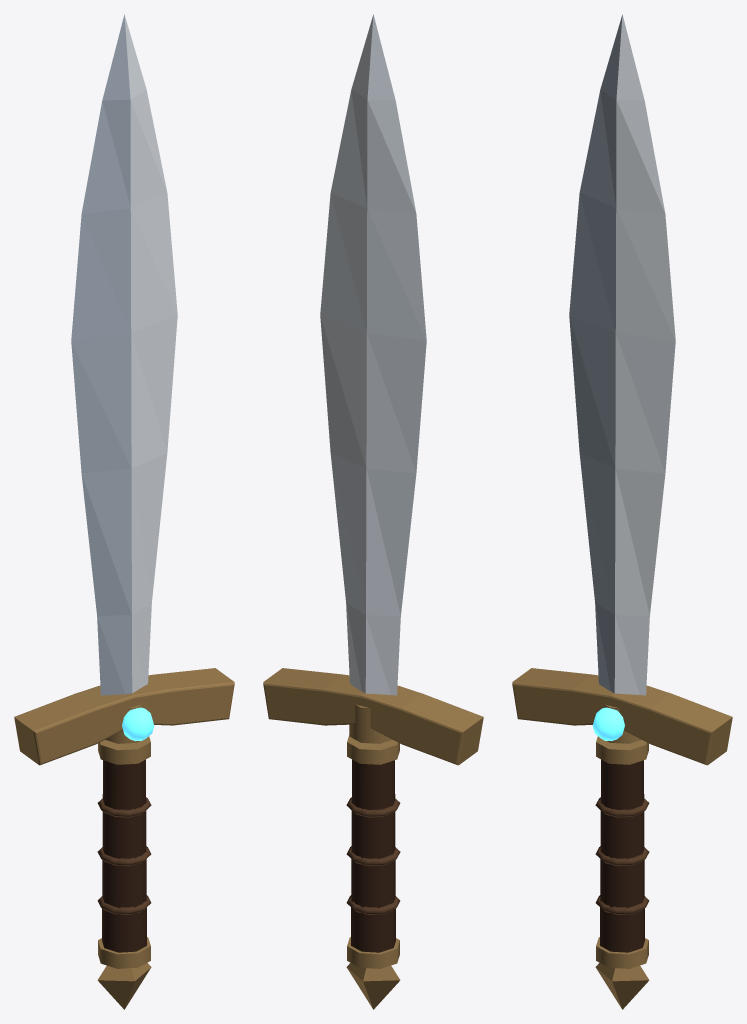
The model's file is sword_f2_97f3b9a2.glb.
3 renders of one model, left to right at view 1: azimuth 30°, elevation 25°; view 2: azimuth 150°, elevation 25°; view 3: azimuth 330°, elevation 25°, orthographic.
Parts seen in each view (by area): view 1: m0_ow80_, m3_ow80_, m1_ow80_, m4_ow80_, m2_gm160_; view 2: m0_ow80_, m3_ow80_, m1_ow80_, m4_ow80_; view 3: m0_ow80_, m3_ow80_, m1_ow80_, m4_ow80_, m2_gm160_.
Boxes of the visible parts, x1=… form: m0_ow80_: x1=71, y1=14, x2=177, y2=695; m3_ow80_: x1=14, y1=668, x2=234, y2=1009; m1_ow80_: x1=102, y1=759, x2=146, y2=952; m4_ow80_: x1=97, y1=797, x2=151, y2=914; m2_gm160_: x1=122, y1=707, x2=154, y2=741; m0_ow80_: x1=320, y1=14, x2=426, y2=695; m3_ow80_: x1=263, y1=668, x2=483, y2=1009; m1_ow80_: x1=351, y1=759, x2=395, y2=952; m4_ow80_: x1=346, y1=797, x2=400, y2=914; m0_ow80_: x1=569, y1=14, x2=675, y2=695; m3_ow80_: x1=512, y1=668, x2=732, y2=1009; m1_ow80_: x1=600, y1=759, x2=644, y2=952; m4_ow80_: x1=595, y1=797, x2=649, y2=914; m2_gm160_: x1=592, y1=707, x2=624, y2=741.
Bounding box in the file's own units: 0.3891 × 1.84 × 0.1189.
